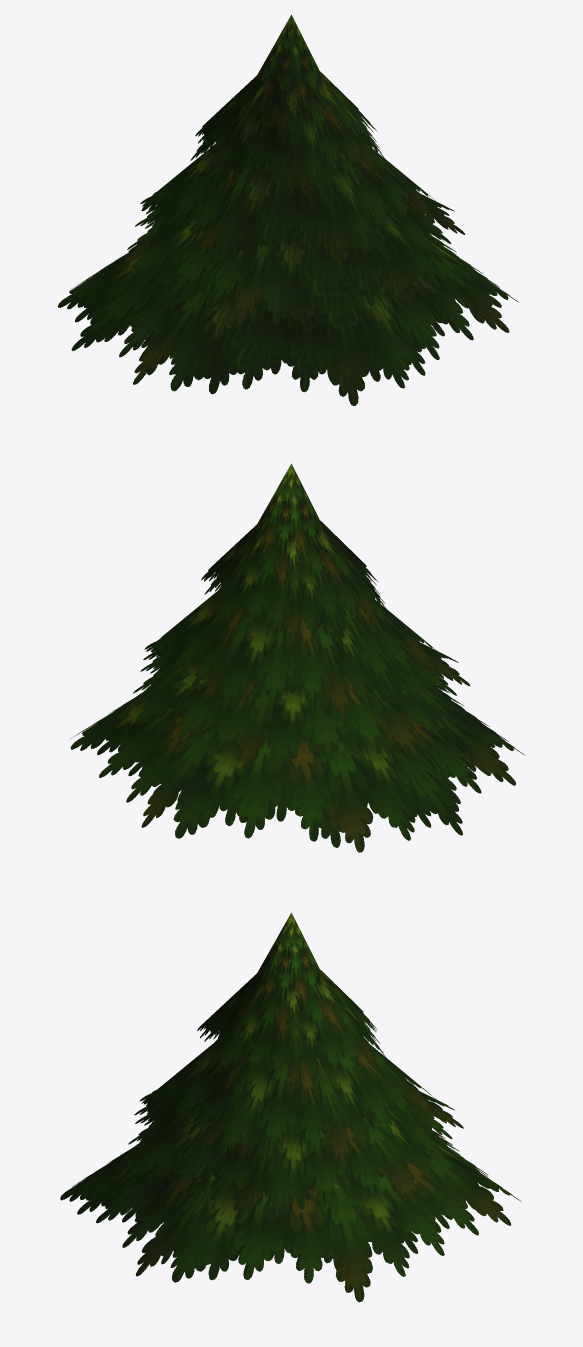
File: PINE2.fbx
3 views of the same model, one above another, from view 1: azimuth 30°, elevation 25°; view 2: azimuth 150°, elevation 25°; view 3: azimuth 270°, elevation 25° (orthographic).
Visible parts, largest first — view 1: cone_bottom, cone_middle_1, cone_middle, pinetop; view 2: cone_bottom, cone_middle_1, cone_middle, pinetop; view 3: cone_bottom, cone_middle, cone_middle_1, pinetop.
Part boxes in pixels (left/top/right/bottom): cone_bottom: left=57, top=232, right=518, bottom=405; cone_middle_1: left=141, top=141, right=435, bottom=274; cone_middle: left=115, top=187, right=465, bottom=327; pinetop: left=190, top=14, right=384, bottom=196; cone_bottom: left=69, top=685, right=524, bottom=852; cone_middle_1: left=145, top=590, right=439, bottom=721; cone_middle: left=115, top=638, right=469, bottom=771; pinetop: left=201, top=463, right=386, bottom=646; cone_bottom: left=60, top=1126, right=521, bottom=1302; cone_middle: left=114, top=1089, right=463, bottom=1220; cone_middle_1: left=144, top=1037, right=436, bottom=1170; pinetop: left=197, top=912, right=385, bottom=1093.
Bounding box in the file's own units: 327 × 232 × 369.
Materials: 1 (1 with a texture image).
